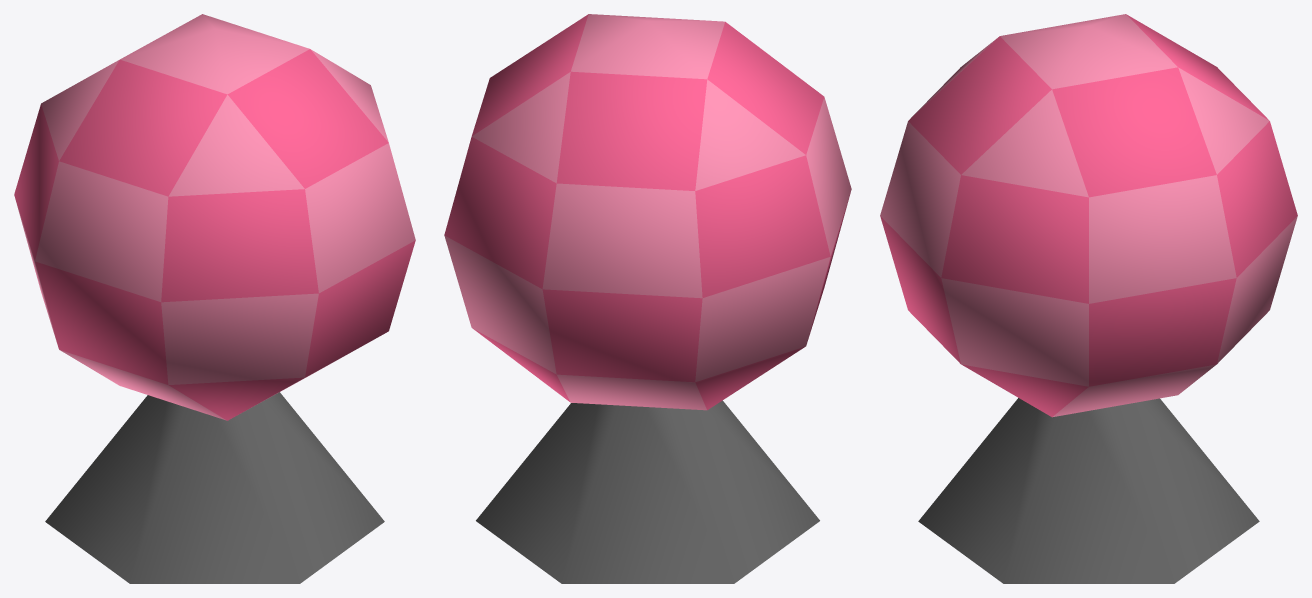
The model's file is prop_087.glb.
The picture shows the model from 3 angles, left to right: view 1: azimuth 30°, elevation 25°; view 2: azimuth 150°, elevation 25°; view 3: azimuth 270°, elevation 25°; orthographic projection.
Parts seen in each view (by area): view 1: prop_087; view 2: prop_087; view 3: prop_087.
Part boxes in pixels (left/top/right/bottom): prop_087: left=14, top=14, right=415, bottom=583; prop_087: left=444, top=14, right=851, bottom=583; prop_087: left=880, top=14, right=1297, bottom=583.
Size of the model in its own units: 0.247 by 0.3229 by 0.247.
Materials: 1 (1 with a texture image).
